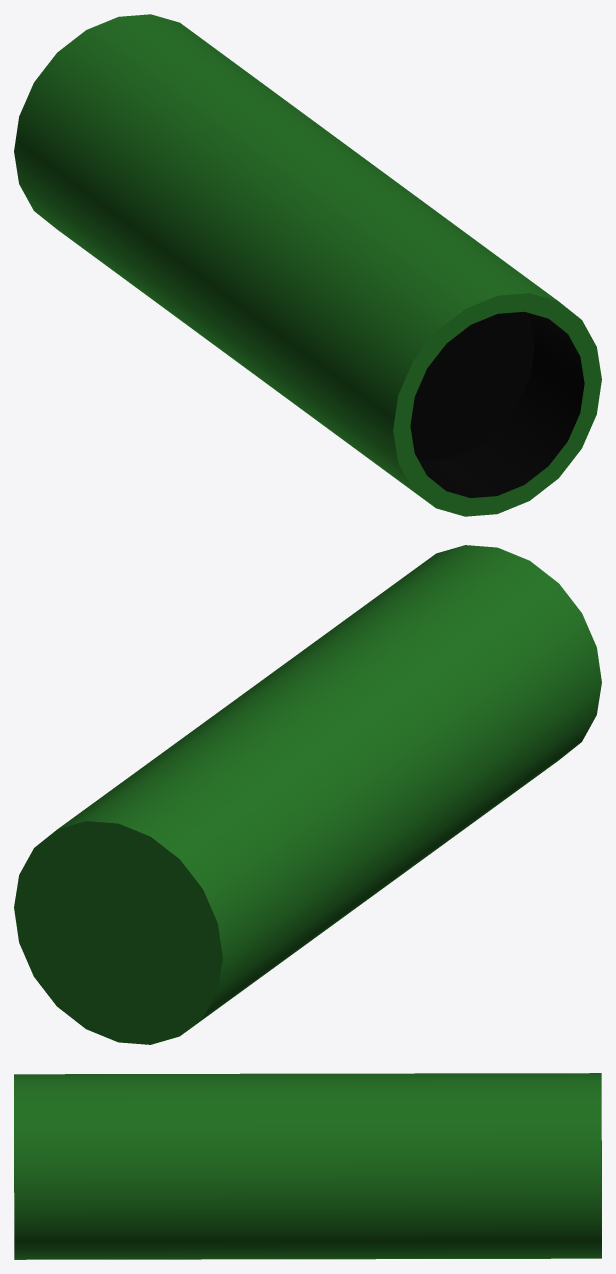
The model's file is bazooka.fbx.
3 renders of one model, top to bottom at view 1: azimuth 30°, elevation 25°; view 2: azimuth 150°, elevation 25°; view 3: azimuth 270°, elevation 25°, orthographic. The views are drawn at different scales.
Visible parts, largest first — view 1: pCylinder1; view 2: pCylinder1; view 3: pCylinder1.
Part boxes in pixels (left/top/right/bottom): pCylinder1: left=14, top=14, right=601, bottom=516; pCylinder1: left=14, top=545, right=601, bottom=1044; pCylinder1: left=14, top=1073, right=601, bottom=1259.
Size of the model in its own units: 35.13 by 35.37 by 110.
